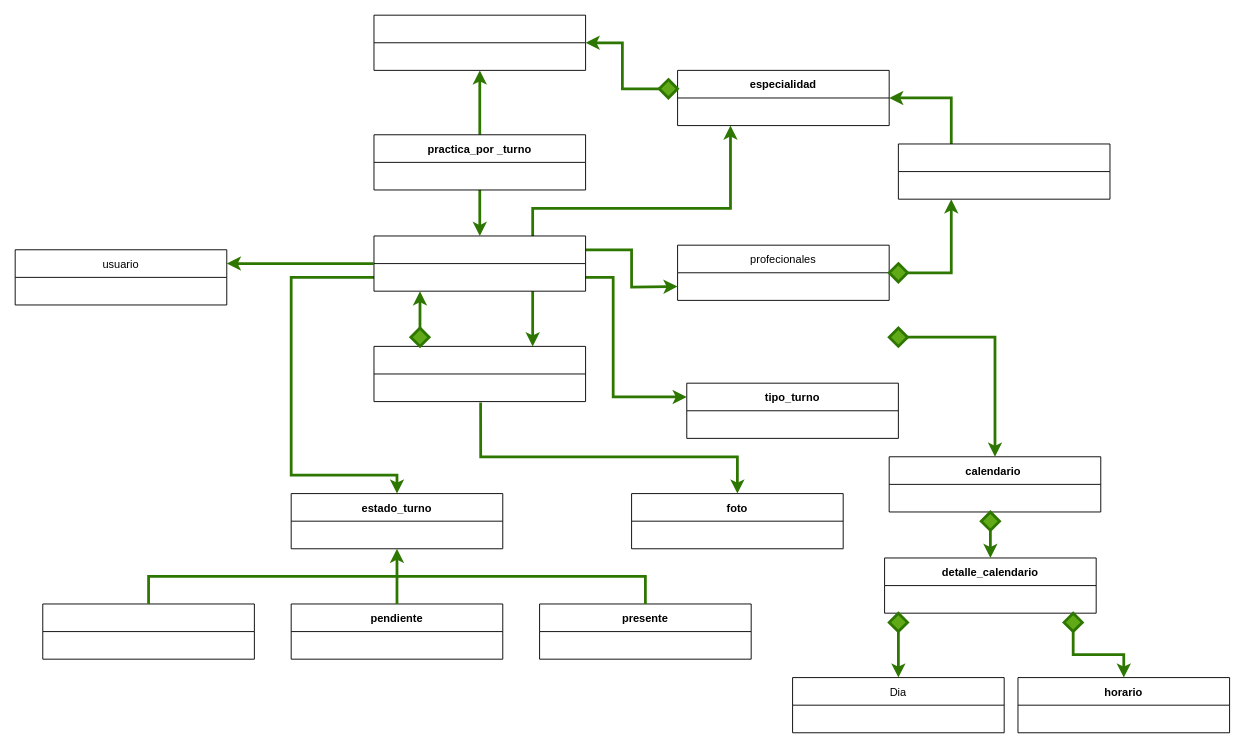
Some shapes in this 1245 by 748 pixel diagram are drawn without their labels. The shapes that lost their labels are listed below. From the top down, each one's centre as x and y in pixels, then its label:
At [479,42]: "practica".
At [1003,171]: "especialidad_por_profecional".
At [479,263]: "turno".
At [479,373]: "paciente".
At [148,631]: "cancelado".
